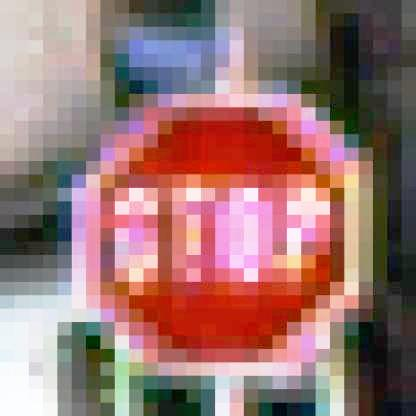Stop Sign: (69, 86, 366, 370)
